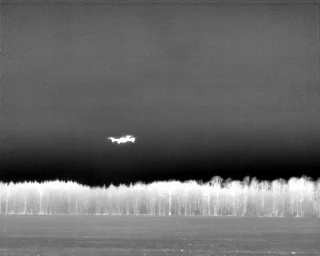DRONE: (104, 129, 140, 149)
